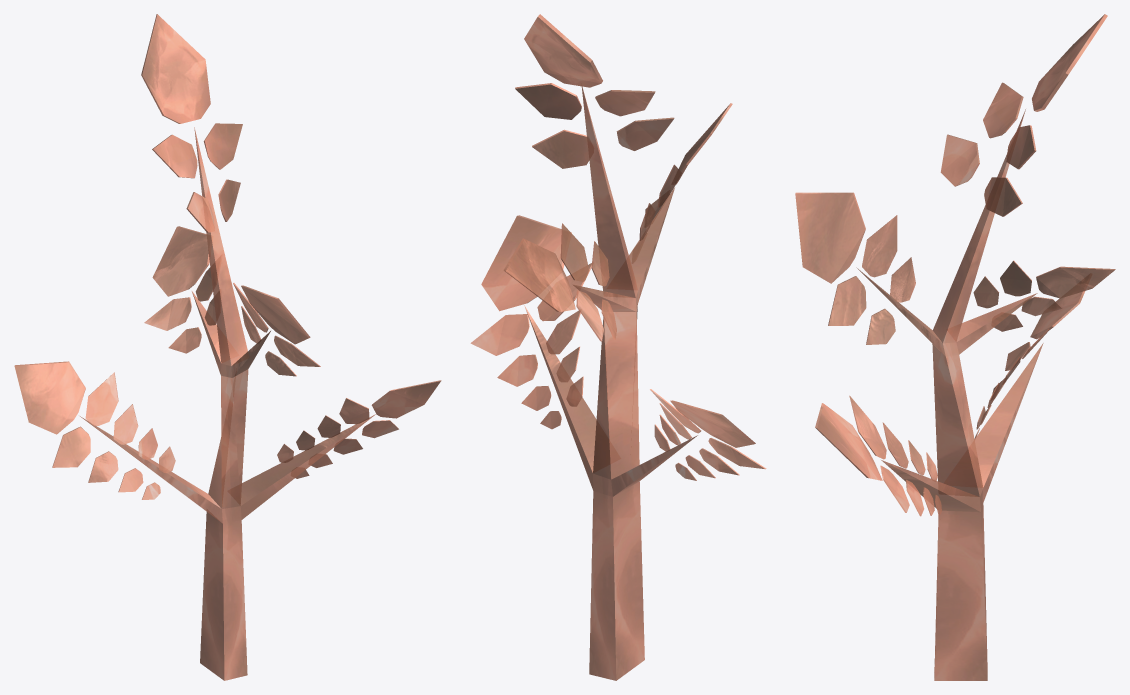
Rendered from salt-crystal-plant-3.glb.
3 renders of one model, left to right at view 1: azimuth 30°, elevation 25°; view 2: azimuth 150°, elevation 25°; view 3: azimuth 270°, elevation 25°, orthographic. The views are drawn at different scales.
Visible parts, largest first — view 1: Cube; view 2: Cube; view 3: Cube.
Part boxes in pixels (x1,y1,x2,y2): Cube: (14,14,441,680); Cube: (470,14,766,680); Cube: (795,14,1115,680).
Size of the model in its own units: 1.05 by 1.94 by 0.8523.
Materials: 1 (1 with a texture image).
